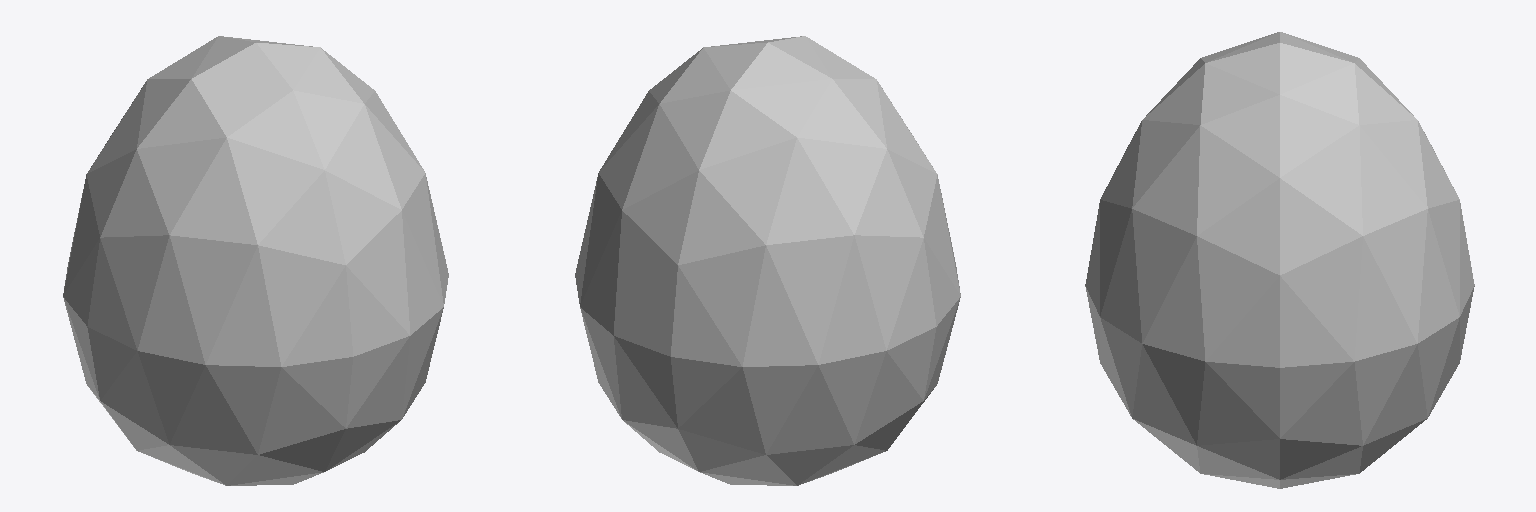
The model's file is Huevo.obj.
3 renders of one model, left to right at view 1: azimuth 30°, elevation 25°; view 2: azimuth 150°, elevation 25°; view 3: azimuth 270°, elevation 25°, orthographic.
Parts seen in each view (by area): view 1: hypercasual_prop010; view 2: hypercasual_prop010; view 3: hypercasual_prop010.
Boxes of the visible parts, <box> form: hypercasual_prop010: <box>63,36,448,485</box>; hypercasual_prop010: <box>575,36,960,485</box>; hypercasual_prop010: <box>1085,32,1474,488</box>.
Bounding box in the file's own units: 0.4885 × 0.5909 × 0.4885.